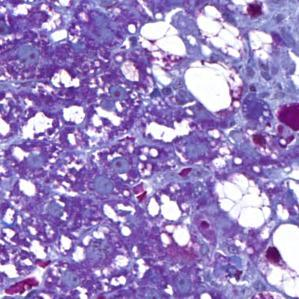ballooning: (213, 172, 275, 233), (194, 4, 246, 62), (139, 20, 188, 61)
